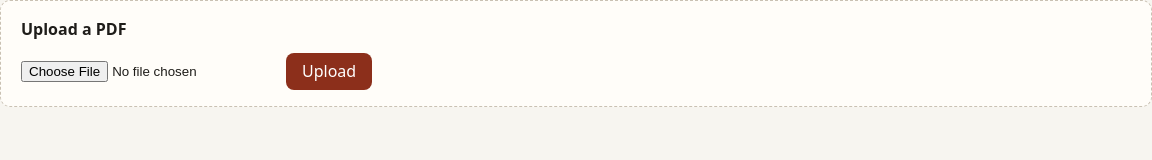
Test: shows why an upload failed
Earlier steps of the test are not shown.
Click the button "Upload" at {"x": 329, "y": 71}, box [286, 53, 372, 90]
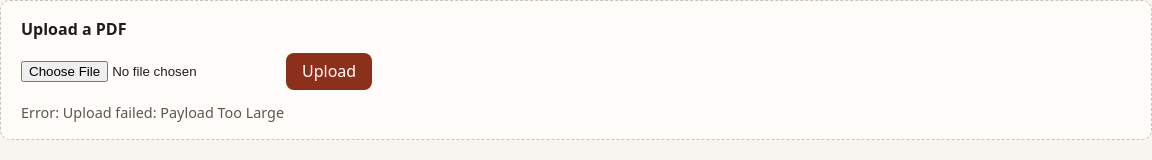
Check: the text "Error: Upload failed: Payload Too Large" is shown, box [21, 103, 284, 122]
